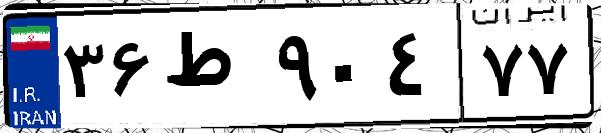0: (330, 28, 385, 110)
3: (57, 26, 110, 100)
4: (385, 28, 445, 110)
6: (110, 28, 158, 98)
7: (475, 38, 525, 113), (525, 38, 570, 115)
9: (270, 28, 330, 110)
ط: (158, 20, 270, 120)
